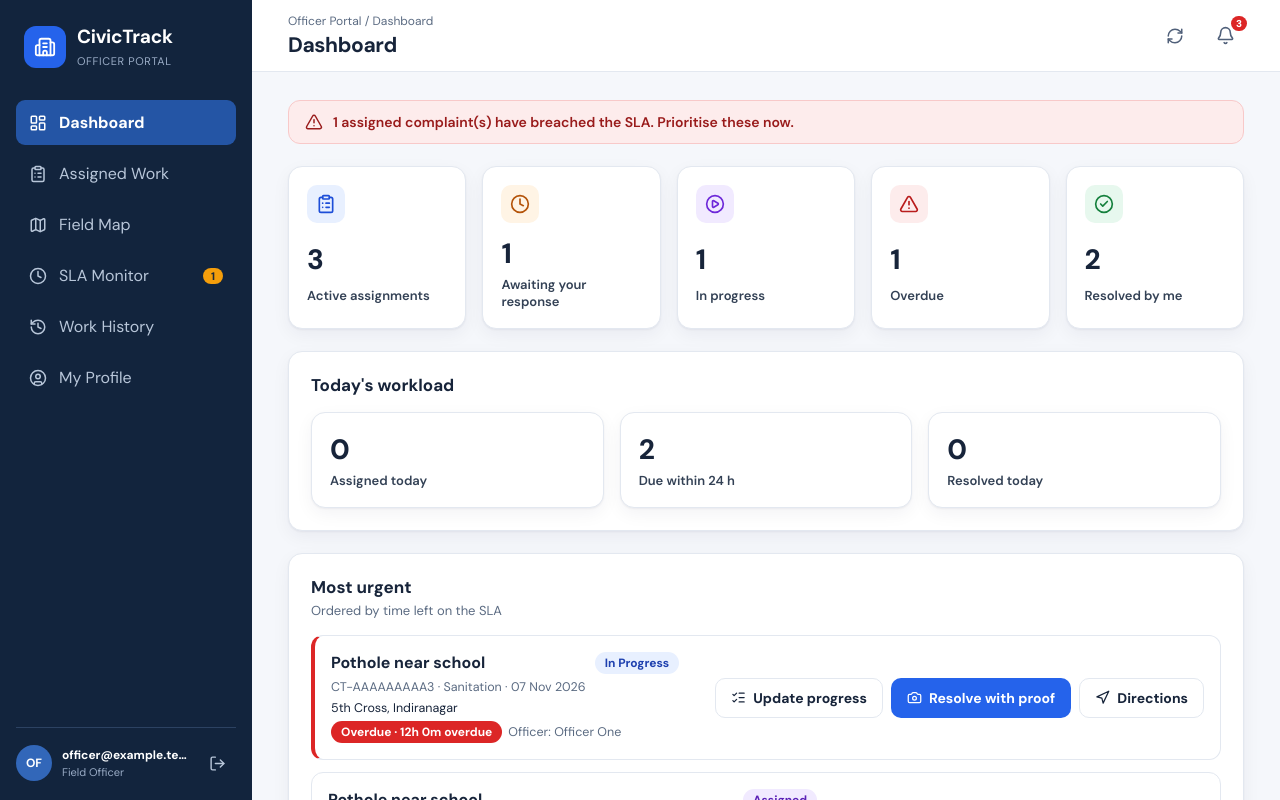
Test: officer portal › requires a proof photo before resolving
Click the button "Resolve with proof" at (981,698), box [891,678,1071,718]
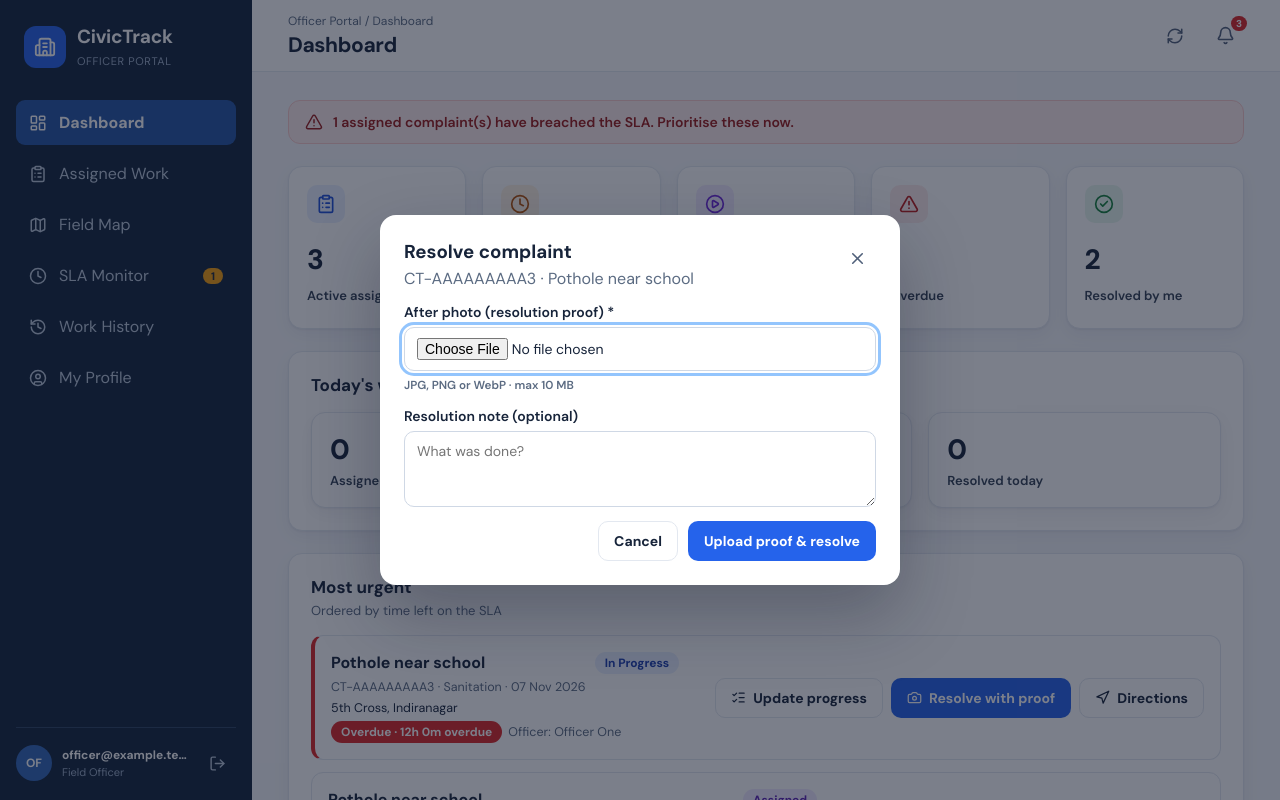
Click the button "Upload proof & resolve" at (782,541), box [688,521,876,561]
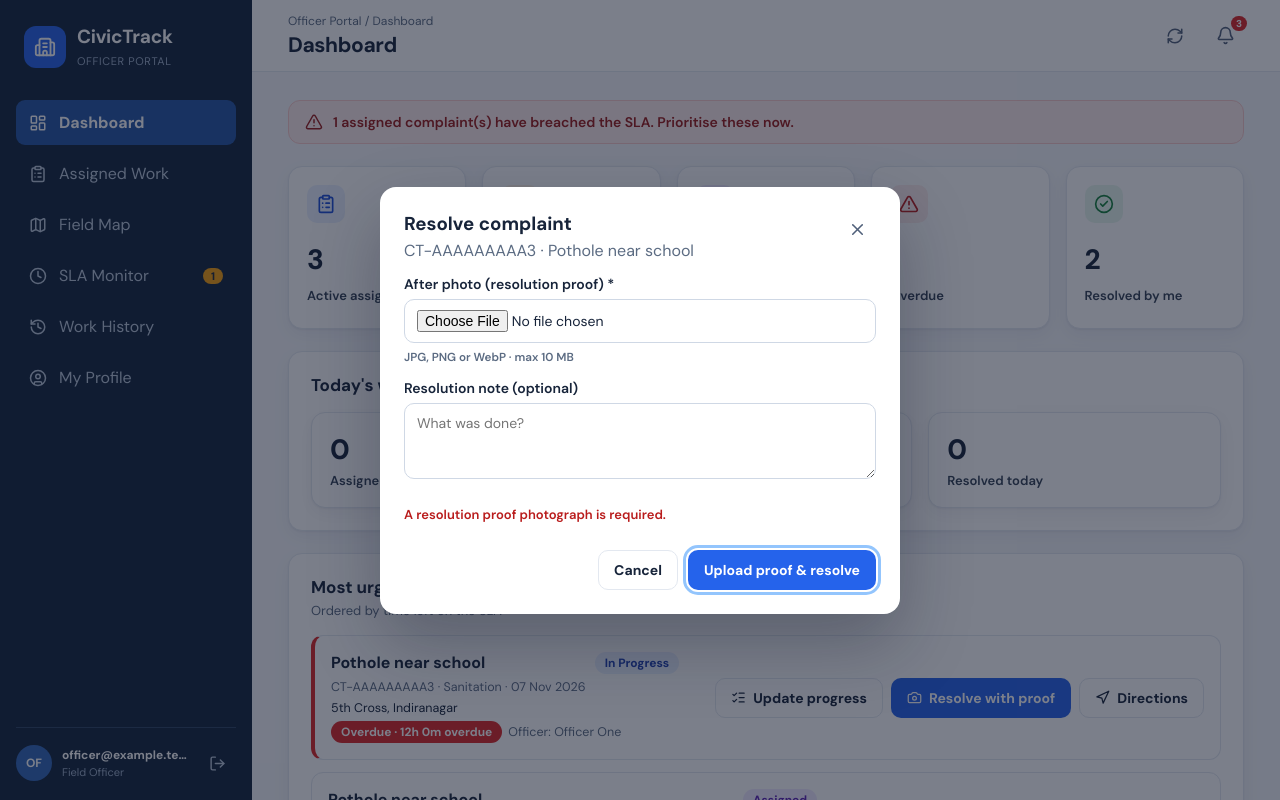
Check: the text "A resolution proof photograph is required." is shown, box [404,506,666,522]
